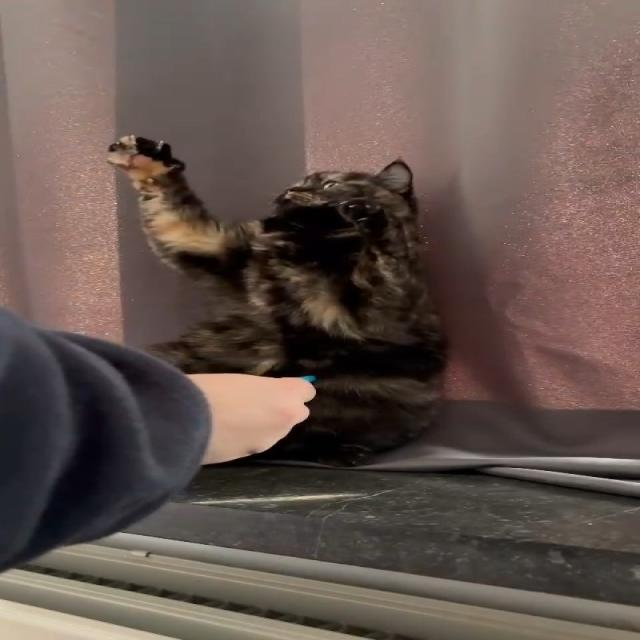authorized: (105, 134, 451, 467)
